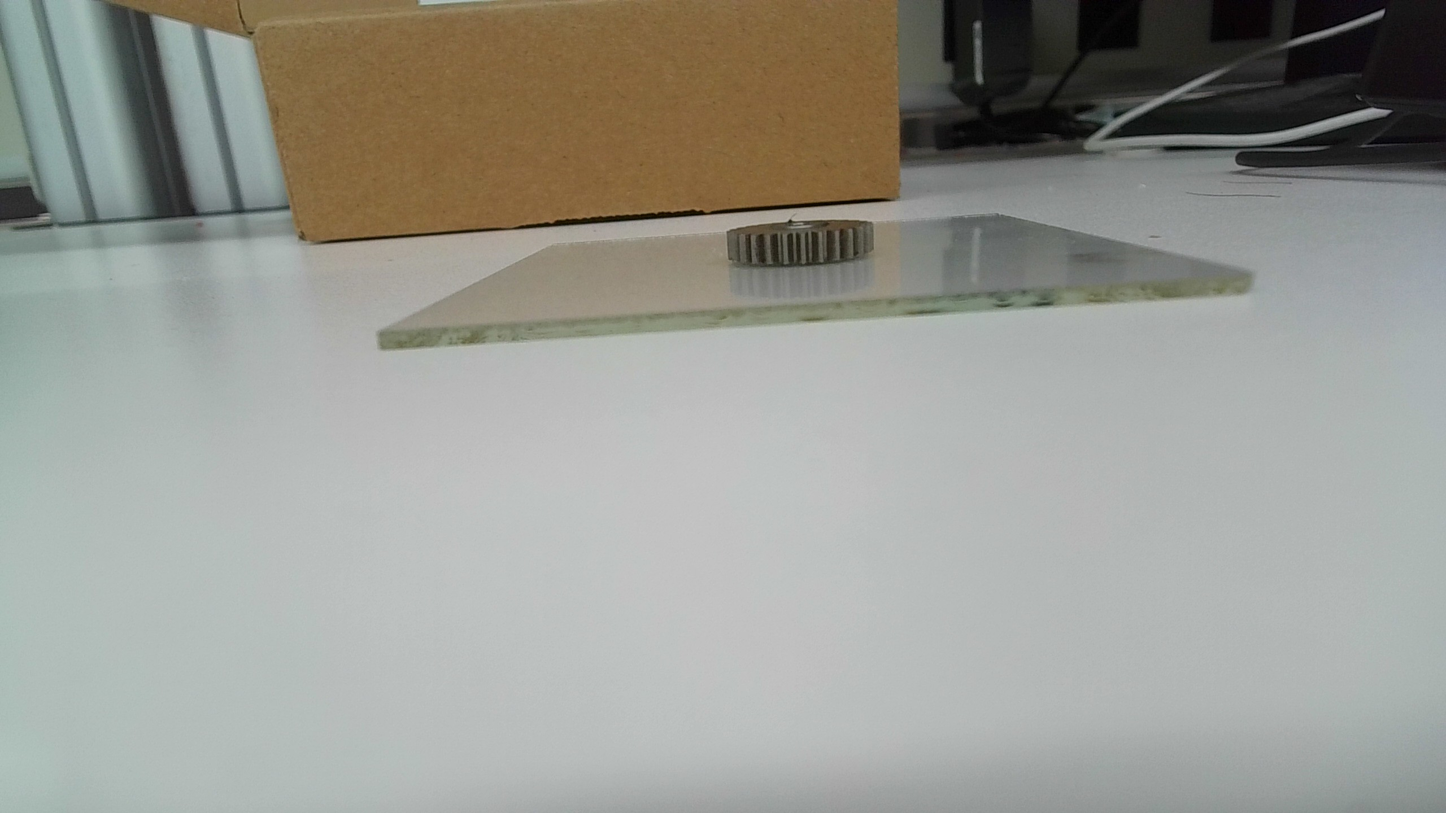gear: (723, 216, 879, 271)
